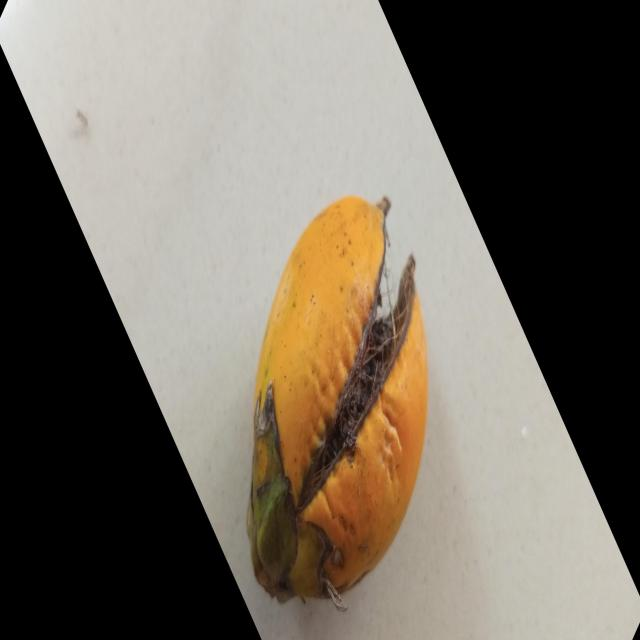damaged: (246, 197, 427, 611)
